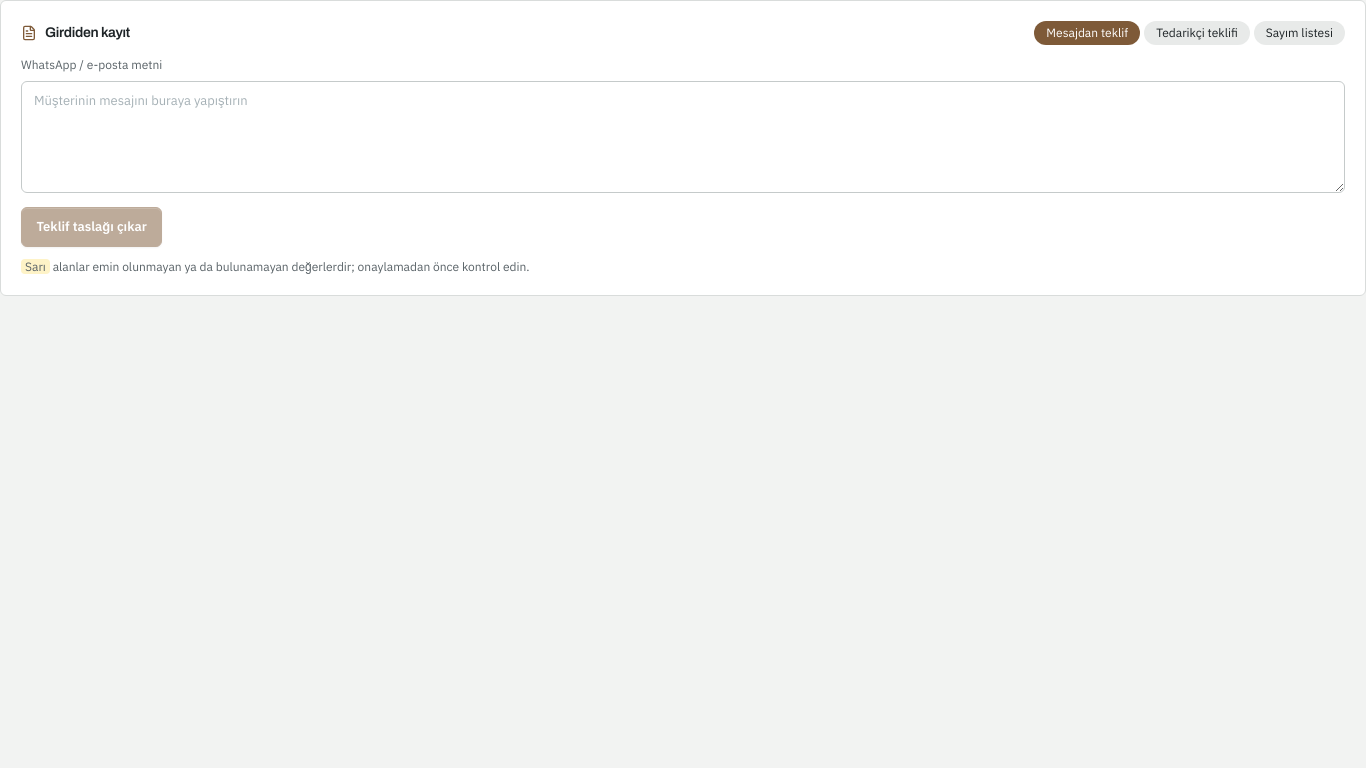
ExtractPanel › message → preview: sure fields plain, unsure or missing ones yellow; approval opens the draft
Type "3x4 pergola istiyoruz Selin Aydın" into the text box labelled "WhatsApp / e-posta metni" at point(683, 137), box [21,81,1345,193]
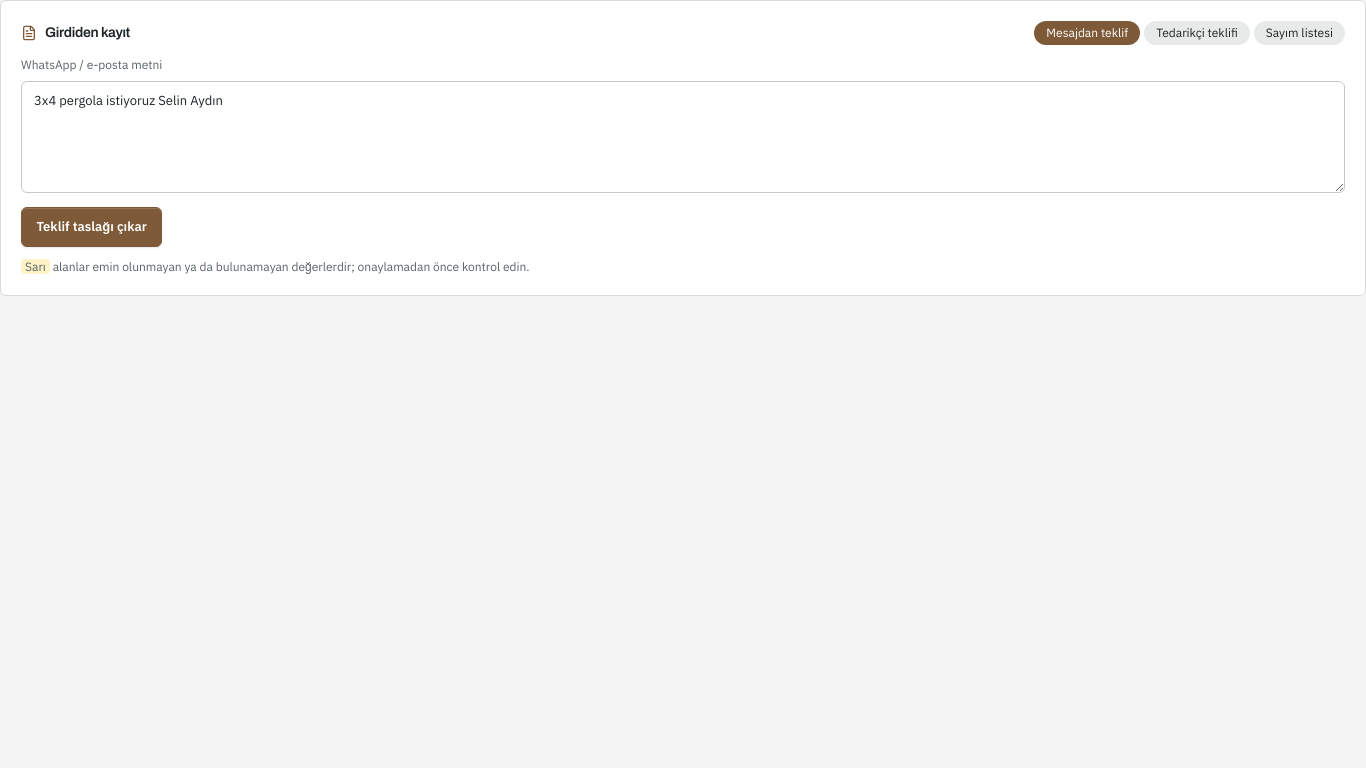
Click the button "Teklif taslağı çıkar" at point(92, 227), box [21,207,162,247]
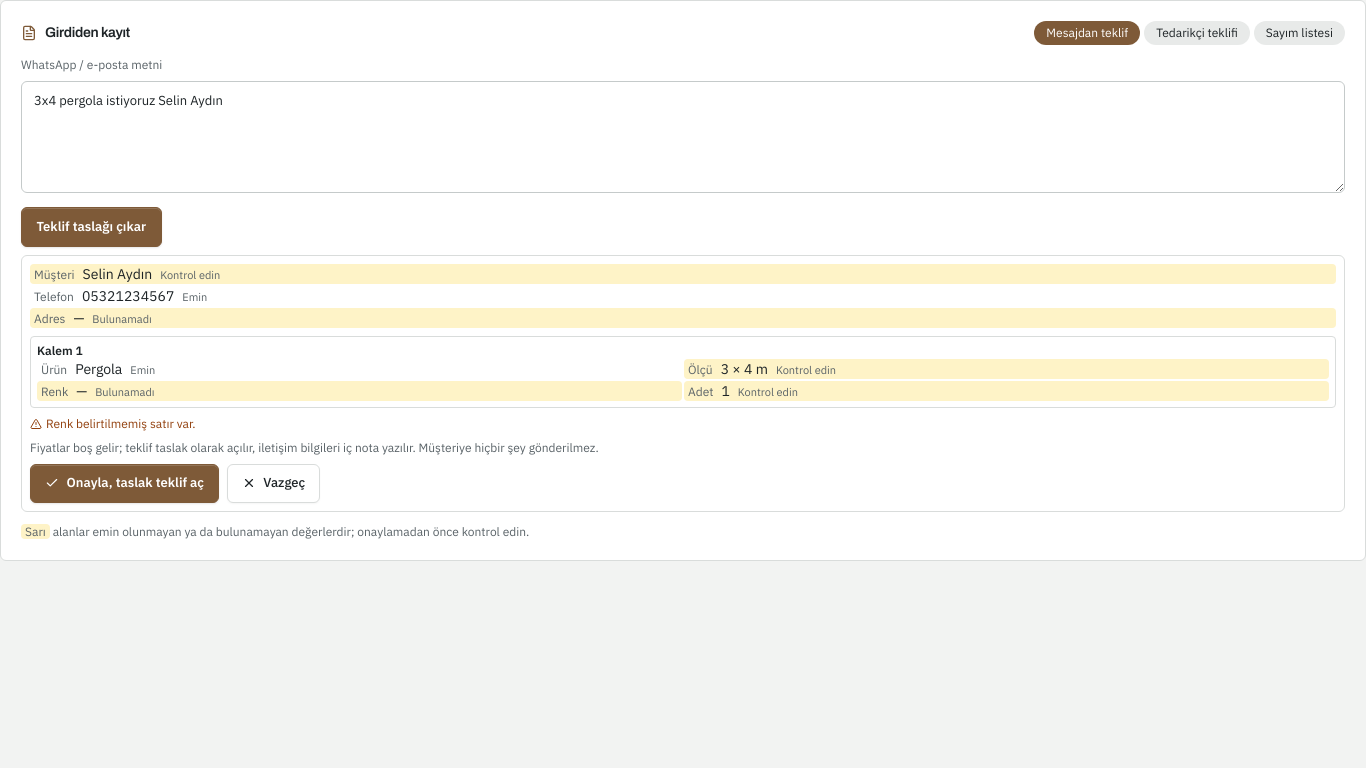
Now the text "Müşteriye hiçbir şey gönderilmez" is shown, box [30,440,599,455]
Click the button "Onayla, taslak teklif aç" at point(125, 483), box [30,464,219,503]
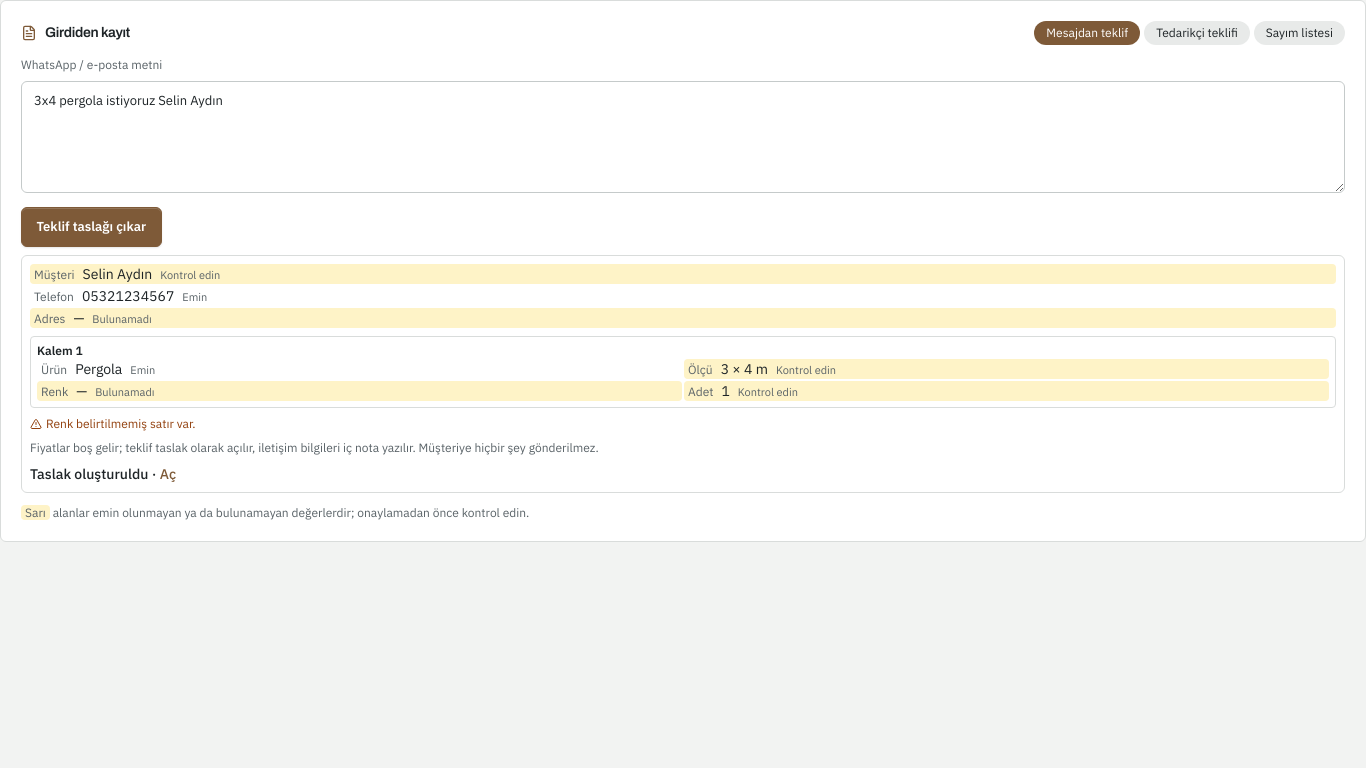
Now the message shows "Taslak oluşturuldu", box [30,465,148,483]
